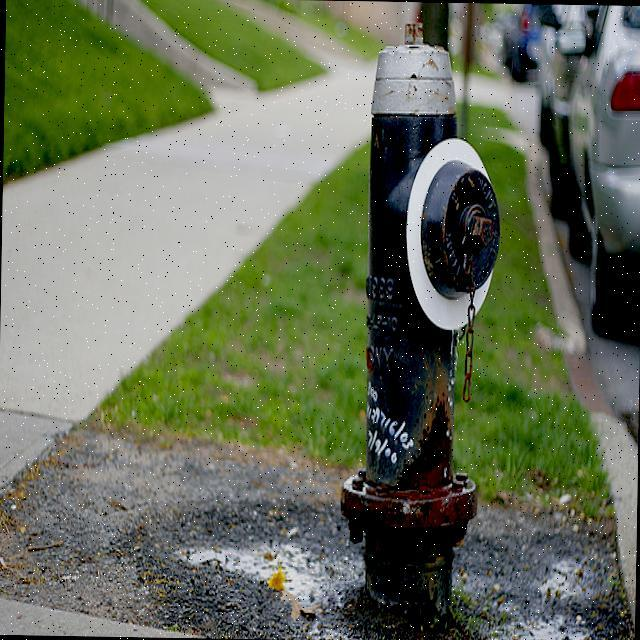fire_hydrant: (341, 21, 505, 615)
